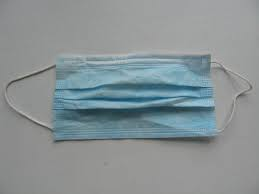flumask: (50, 51, 228, 145)
